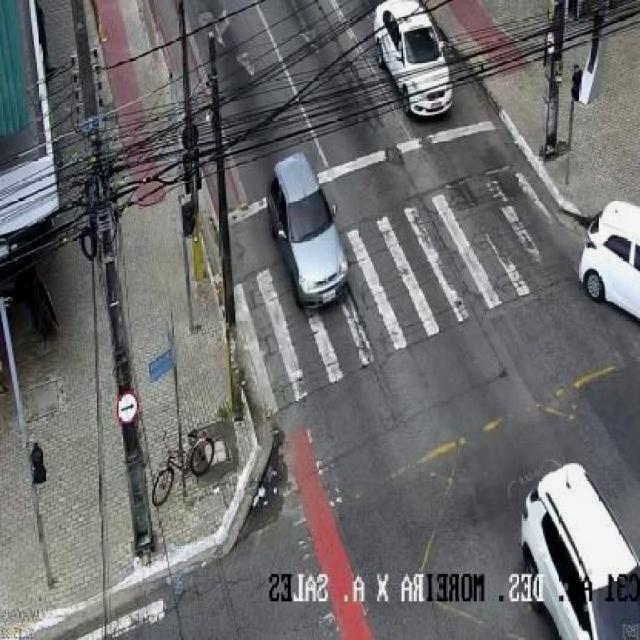Car: (521, 462, 639, 640), (269, 152, 351, 314), (372, 0, 456, 121), (576, 199, 640, 321)
Cycle: (150, 430, 217, 507)
